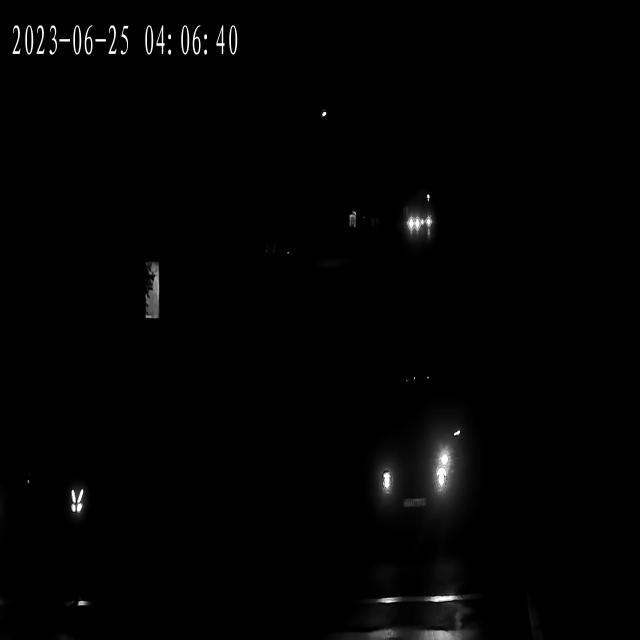Car: (374, 399, 467, 538), (408, 216, 426, 233), (420, 214, 433, 228)
